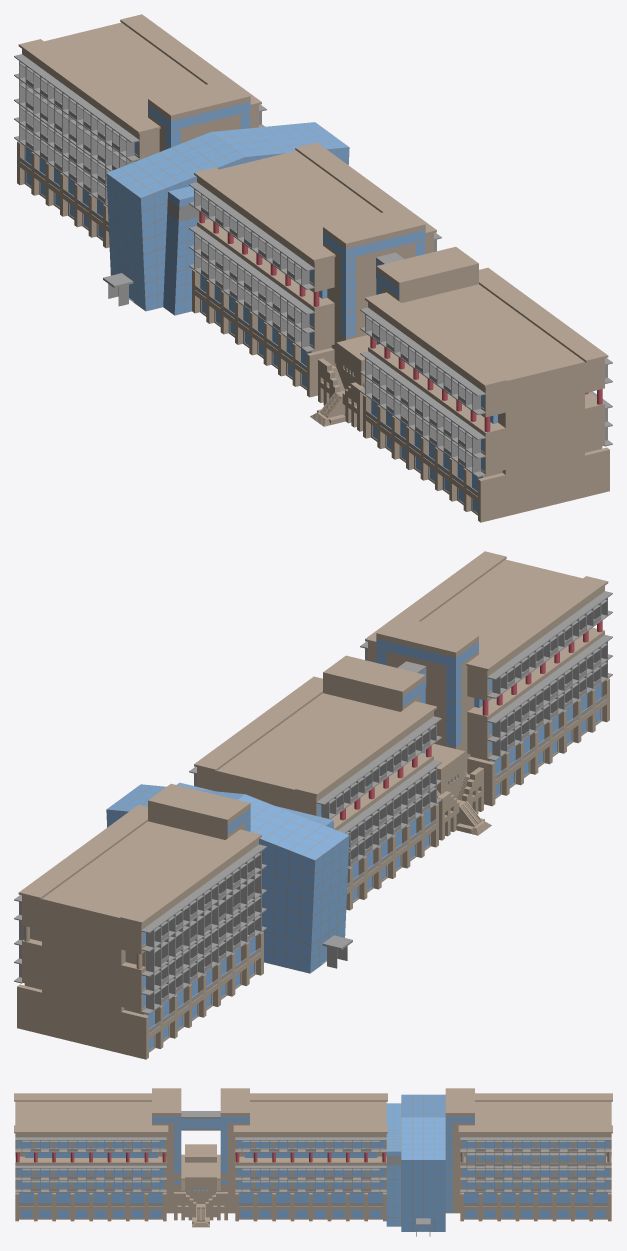
Rendered from MainTexture.fbx.
The picture shows the model from 3 angles, top to bottom: view 1: azimuth 30°, elevation 25°; view 2: azimuth 150°, elevation 25°; view 3: azimuth 270°, elevation 25°; orthographic projection. The views are drawn at different scales.
Visible parts, largest first — view 1: Cube.1037, Cube.334, Cube.331, Cube.336, PlusTwo, Cube.337, Cube.671, Cube.994, Cube.330, Cube.668, Cube.389, Cube.856 (+25 smaller); view 2: Cube.1037, Cube.671, Cube.994, Cube.335, Cube.330, Cube.337, Cube.331, Cube.334, Cube.389, Cube.856, Cube.662, Cube.673 (+25 smaller); view 3: Cube.668, Cube.019, Cube.301, Cube.795, Cube.001, Cube.319, Cube.812, Cube.142, Cube.333, Cube.178, Cube.100, Cube.220 (+40 smaller).
Part boxes in pixels (left/top/right/bottom): Cube.1037: left=106, top=132, right=245, bottom=311; Cube.334: left=402, top=294, right=545, bottom=516; Cube.331: left=439, top=284, right=584, bottom=506; Cube.336: left=323, top=217, right=385, bottom=363; PlusTwo: left=163, top=186, right=208, bottom=315; Cube.337: left=219, top=160, right=341, bottom=245; Cube.671: left=82, top=22, right=205, bottom=94; Cube.994: left=44, top=32, right=165, bottom=117; Cube.330: left=257, top=150, right=380, bottom=222; Cube.668: left=211, top=122, right=349, bottom=164; Cube.389: left=365, top=292, right=506, bottom=387; Cube.856: left=18, top=39, right=160, bottom=133; Cube.1037: left=237, top=794, right=349, bottom=973; Cube.671: left=42, top=821, right=187, bottom=1043; Cube.994: left=81, top=831, right=224, bottom=1053; Cube.335: left=416, top=626, right=478, bottom=772; Cube.330: left=217, top=693, right=362, bottom=798; Cube.337: left=256, top=703, right=399, bottom=810; Cube.331: left=421, top=559, right=544, bottom=631; Cube.334: left=461, top=569, right=582, bottom=654; Cube.389: left=466, top=576, right=608, bottom=670; Cube.856: left=120, top=829, right=261, bottom=924; Cube.662: left=295, top=701, right=436, bottom=796; Cube.673: left=18, top=804, right=147, bottom=899; Cube.668: left=401, top=1117, right=445, bottom=1231; Cube.019: left=235, top=1156, right=386, bottom=1189; Cube.301: left=15, top=1156, right=166, bottom=1189; Cube.795: left=460, top=1156, right=611, bottom=1189; Cube.001: left=235, top=1192, right=386, bottom=1219; Cube.319: left=15, top=1192, right=166, bottom=1219; Cube.812: left=460, top=1192, right=611, bottom=1219; Cube.142: left=445, top=1100, right=474, bottom=1213; Cube.333: left=220, top=1100, right=249, bottom=1213; Cube.178: left=152, top=1100, right=181, bottom=1213; Cube.100: left=235, top=1133, right=386, bottom=1149; Cube.220: left=15, top=1133, right=166, bottom=1149.
Bounding box in the file's own units: 48000 × 30000 × 162400.
